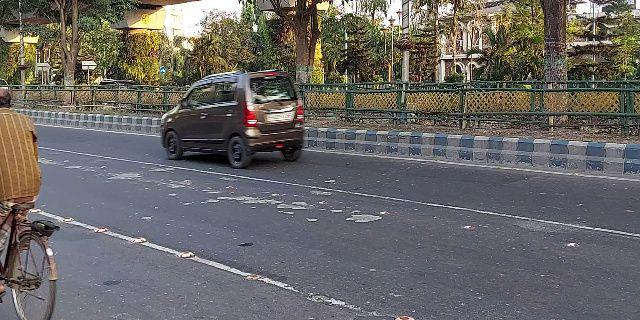Car: (155, 71, 308, 174)
Cycle: (1, 79, 64, 320)
